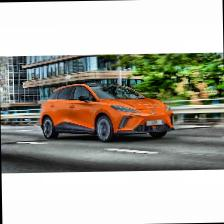EV: (40, 82, 174, 141)
